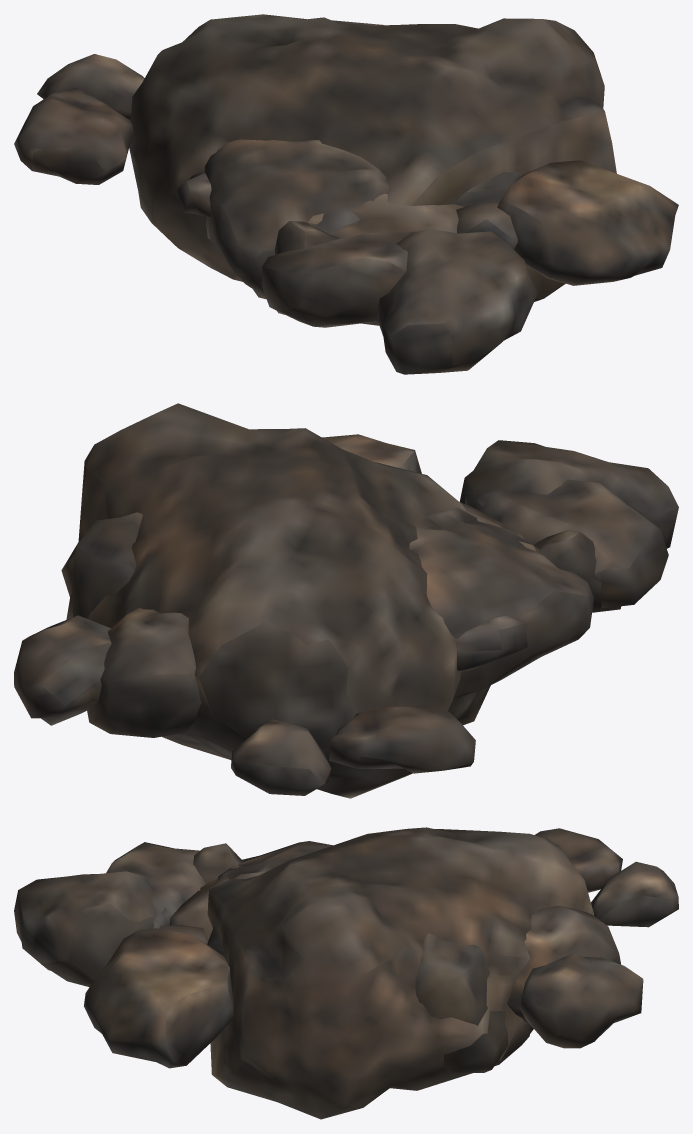
Rendered from Stone_Grps.fbx.
3 views of the same model, one above another, from view 1: azimuth 30°, elevation 25°; view 2: azimuth 150°, elevation 25°; view 3: azimuth 270°, elevation 25° (orthographic). The views are drawn at different scales.
Visible parts, largest first — view 1: Stone_Grp_01, Stone_Grp_02, Stone_Grp_04, Stone_Grp_03; view 2: Stone_Grp_01, Stone_Grp_02, Stone_Grp_04; view 3: Stone_Grp_01, Stone_Grp_02, Stone_Grp_04.
Part boxes in pixels (<box>): Stone_Grp_01: <box>14,14,678,374</box>; Stone_Grp_02: <box>204,139,517,327</box>; Stone_Grp_04: <box>175,172,463,238</box>; Stone_Grp_03: <box>308,172,519,224</box>; Stone_Grp_01: <box>14,403,678,798</box>; Stone_Grp_02: <box>87,479,668,737</box>; Stone_Grp_04: <box>71,502,527,671</box>; Stone_Grp_01: <box>14,827,678,1119</box>; Stone_Grp_02: <box>106,841,620,1022</box>; Stone_Grp_04: <box>169,875,508,1072</box>.
Size of what is drawn, in the model's own units: 155 by 79.58 by 211.
